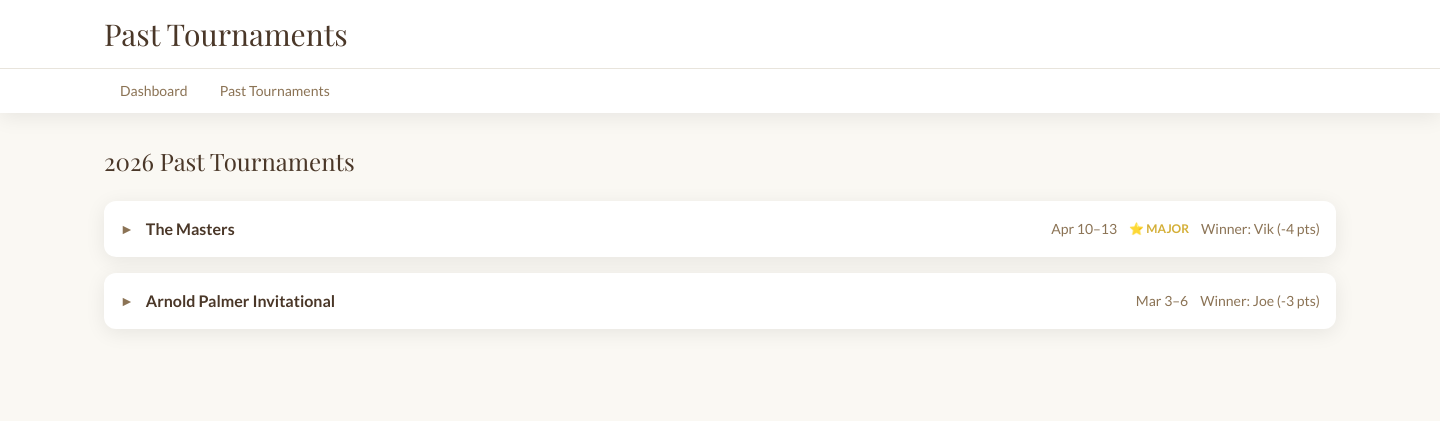
PastTournaments › Accordion Behavior › should display error inside panel when results fail
Click the text "The Masters": (190, 228) left=146, top=219, right=235, bottom=238
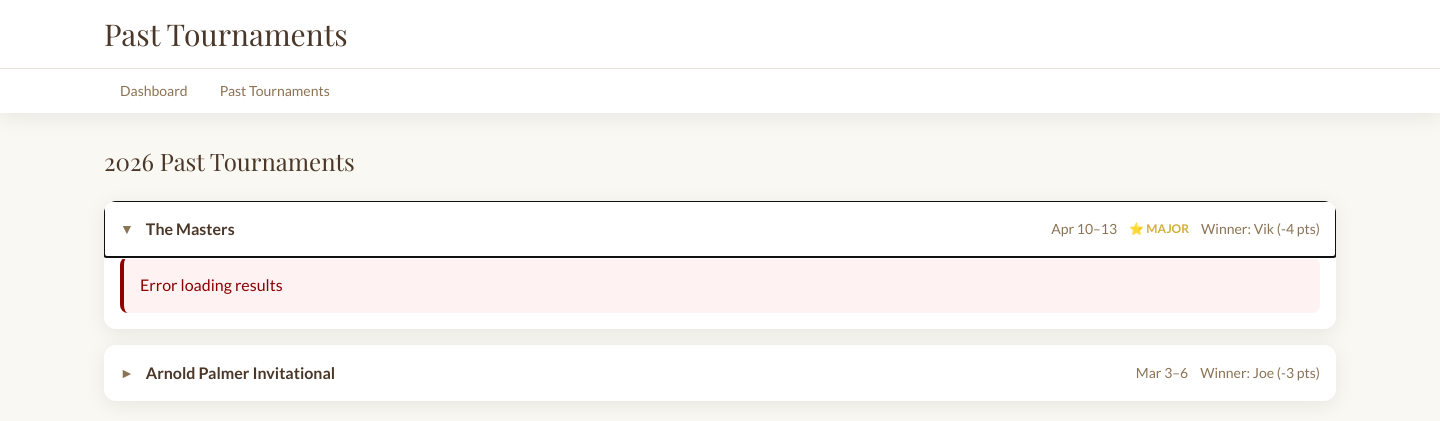
Now the text "Error loading results" is shown, box left=140, top=275, right=283, bottom=294
